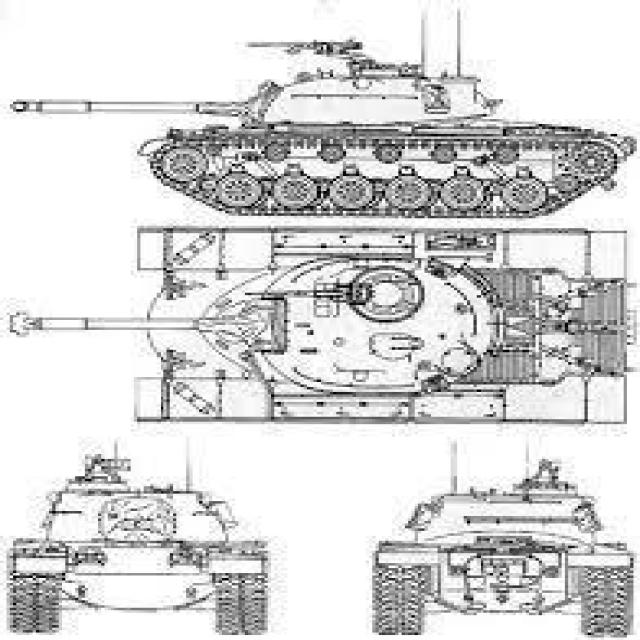Tanks: (8, 31, 603, 217), (83, 231, 540, 439), (359, 456, 630, 635), (10, 455, 281, 624)
